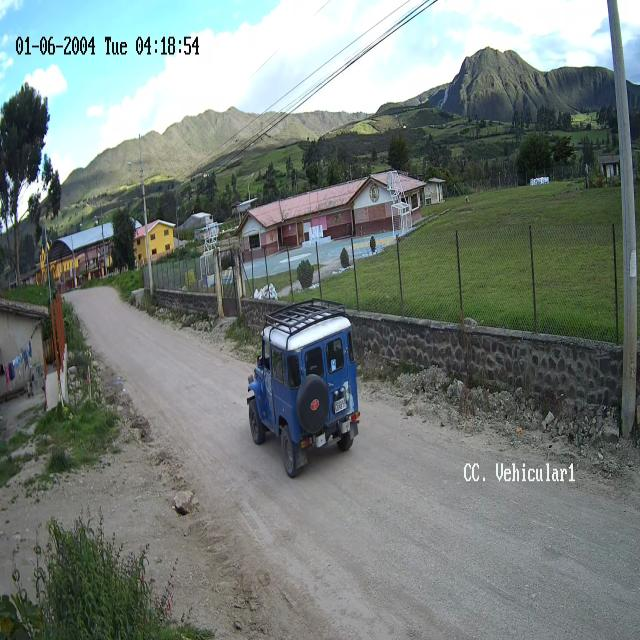SUV: (247, 306, 361, 479)
